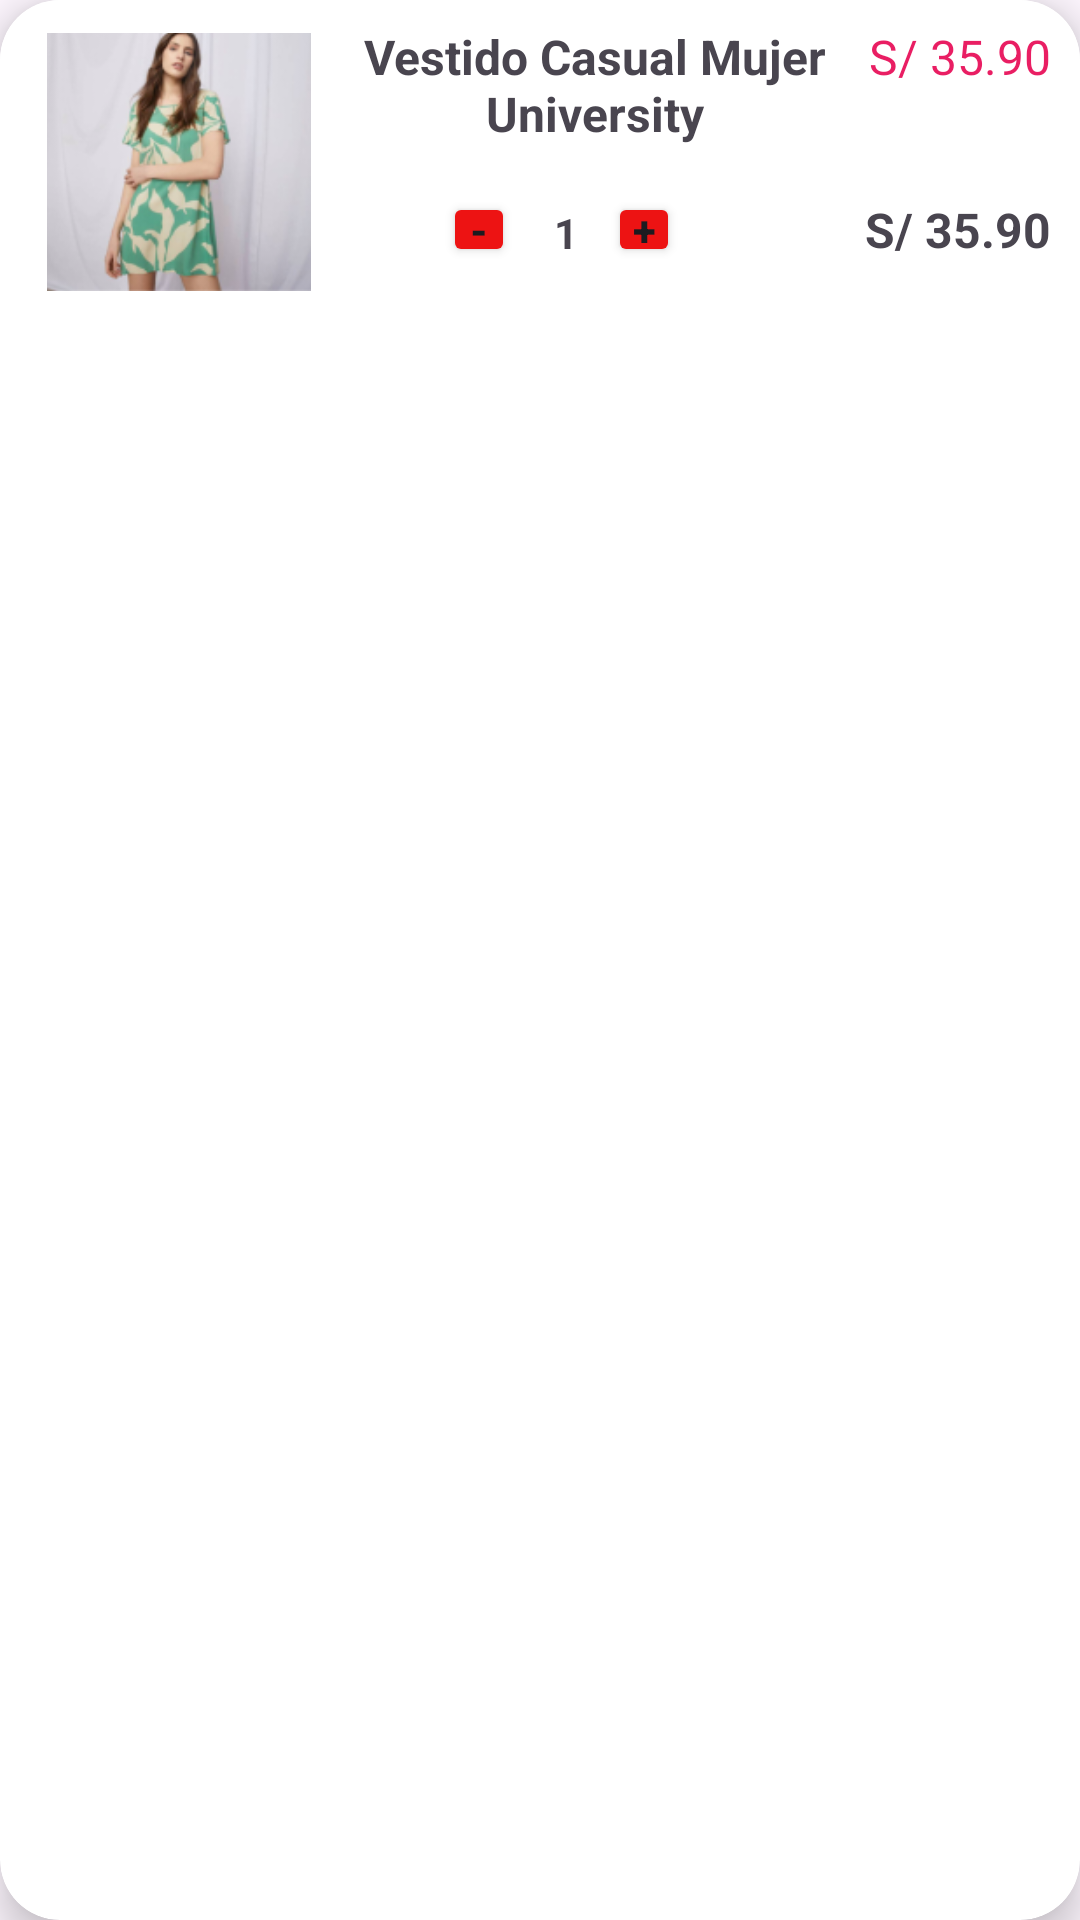

Screen size 1080×1920. Icon name, then its box in pixels as (x1, y1, x2, y2):
ropa: (47, 33, 311, 291)
